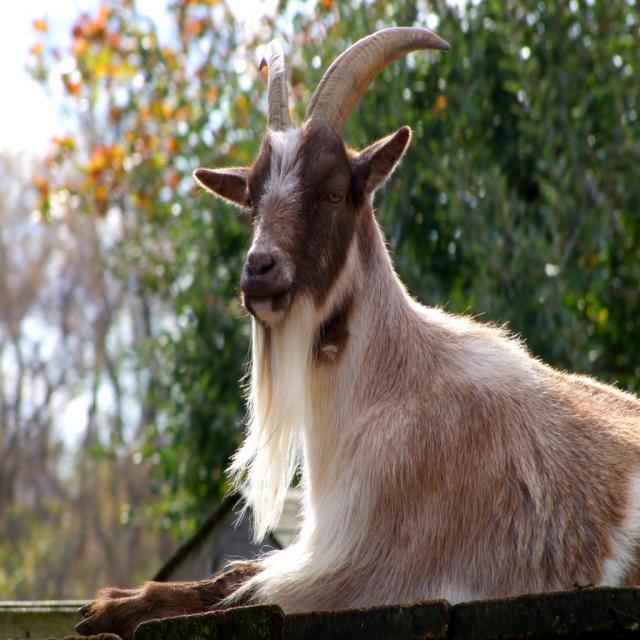Goat: (76, 24, 640, 626)
